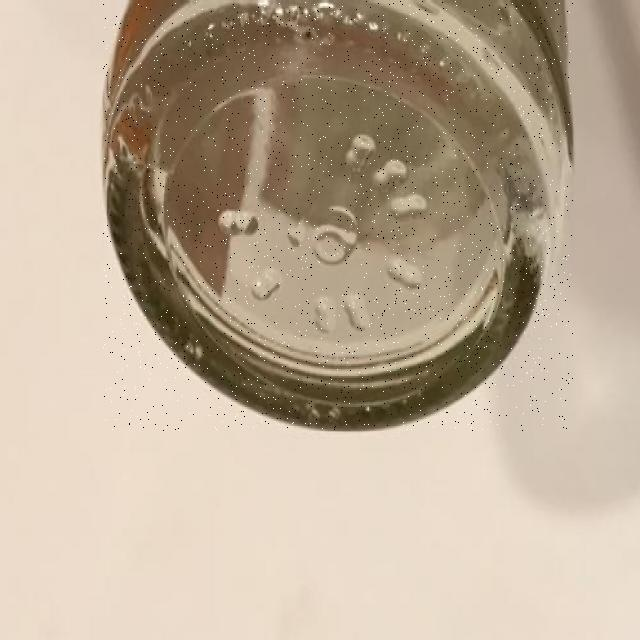glass: (103, 1, 573, 430)
